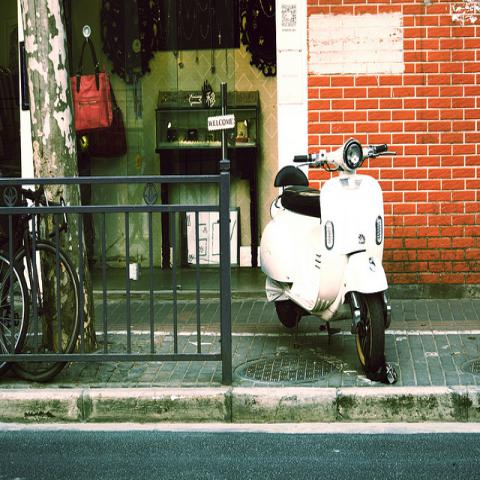motorcycle: (259, 142, 392, 370)
